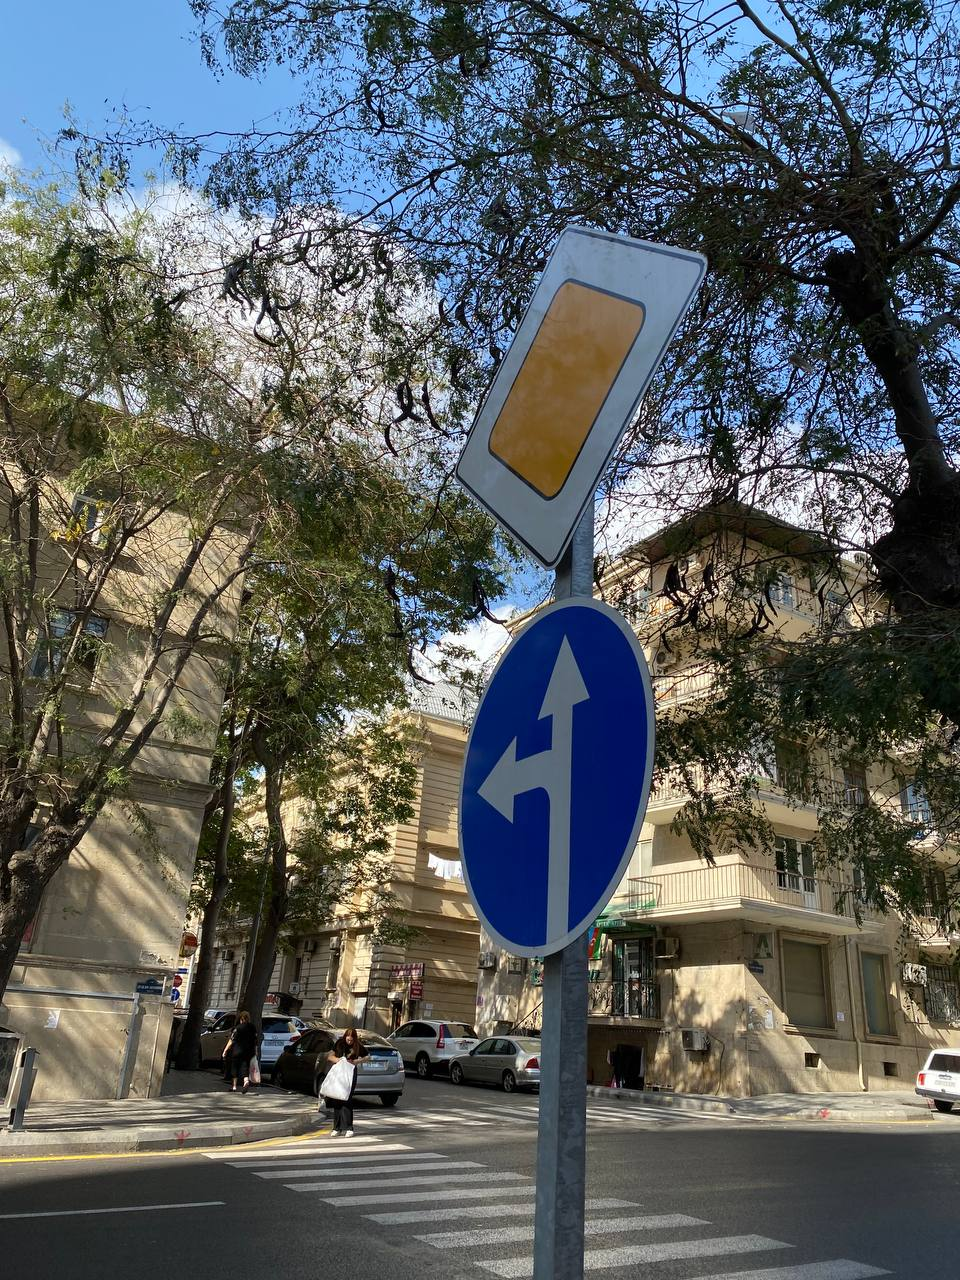Main Road: (455, 225, 707, 569)
Straight or Left: (458, 597, 656, 958)
